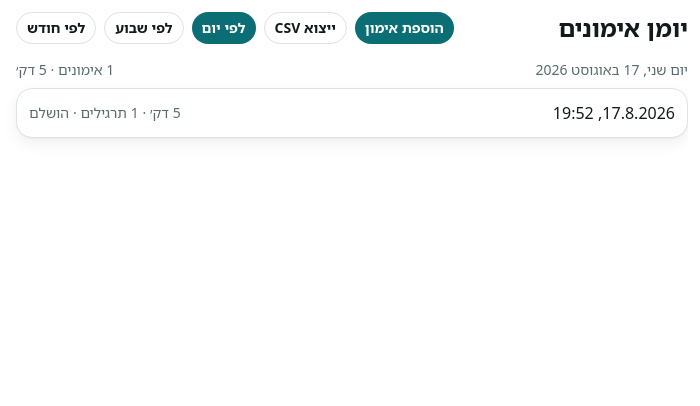
Test: JournalPage › groups sessions and shows entries on expand
Click the button "17.8.2026, 19:52 5 דק׳ · 1 תרגילים · הושלם": (573, 113) [29,101,675,125]
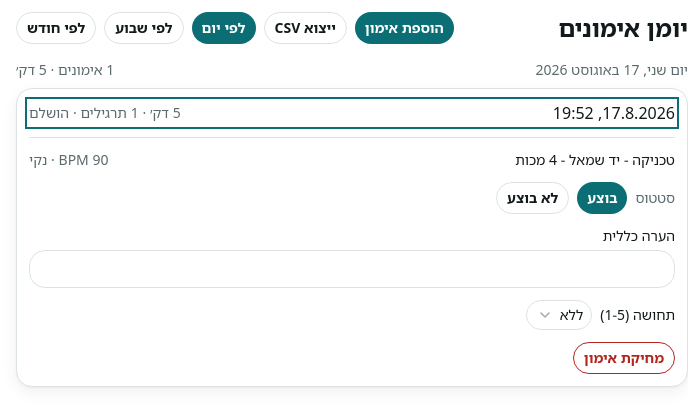
Result: the text "90 BPM · נקי" is shown at [29,150,109,170]
